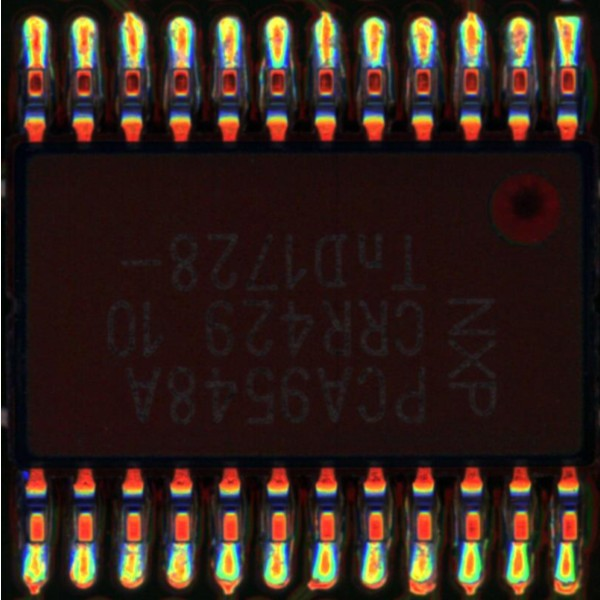Bad_podu: (321, 49, 333, 81), (176, 52, 188, 80), (224, 51, 235, 81), (129, 529, 139, 561), (31, 52, 42, 81), (562, 51, 573, 80)
